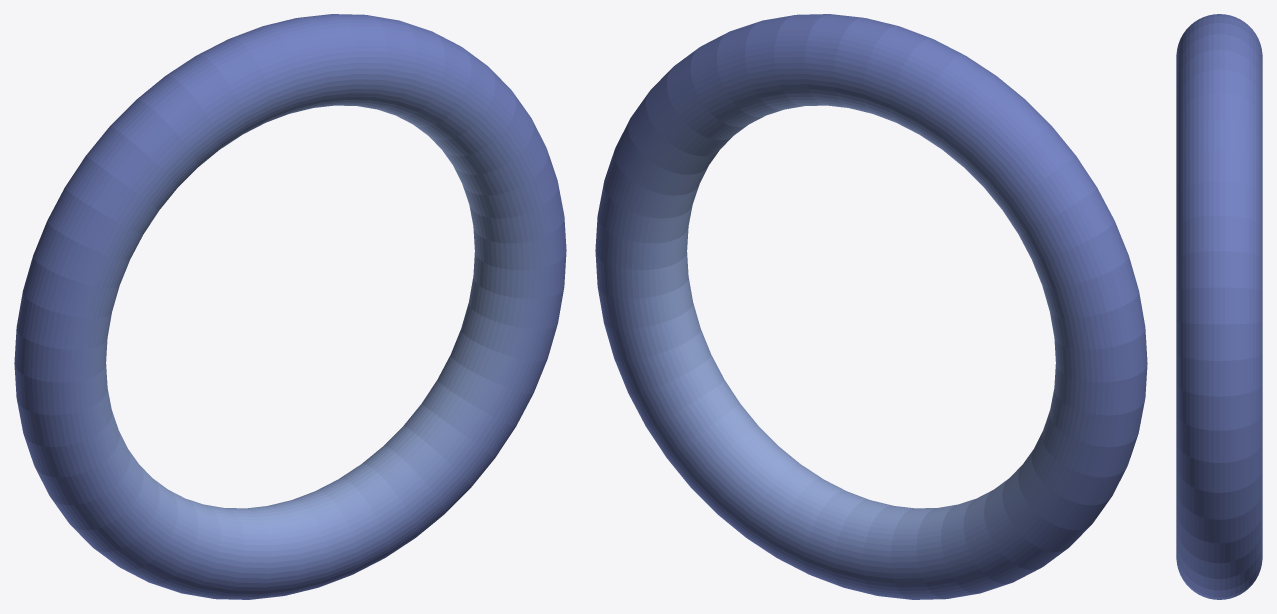
The picture shows the model from 3 angles, left to right: view 1: azimuth 30°, elevation 25°; view 2: azimuth 150°, elevation 25°; view 3: azimuth 270°, elevation 25°; orthographic projection. The views are drawn at different scales.
Parts seen in each view (by area): view 1: world; view 2: world; view 3: world.
Part boxes in pixels (box(x1,y1,x2,y2)): world: box(14, 14, 566, 599); world: box(595, 14, 1147, 599); world: box(1176, 14, 1262, 599).
Bounding box in the file's own units: 22.67 × 22.62 × 3.33.
